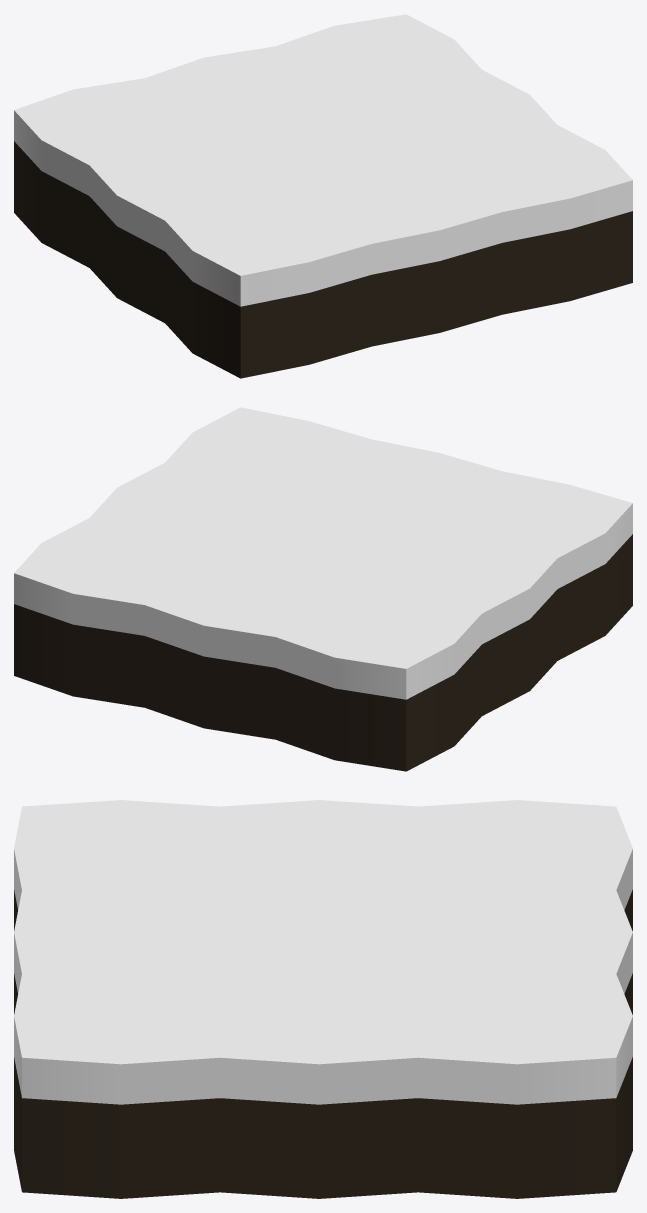
The model's file is jaggeredTile-14b_col.fbx.
3 views of the same model, one above another, from view 1: azimuth 30°, elevation 25°; view 2: azimuth 150°, elevation 25°; view 3: azimuth 270°, elevation 25° (orthographic). The views are drawn at different scales.
Visible parts, largest first — view 1: jaggeredTile-14b.col; view 2: jaggeredTile-14b.col; view 3: jaggeredTile-14b.col.
Part boxes in pixels (bbox=[...]): jaggeredTile-14b.col: bbox=[14, 14, 632, 378]; jaggeredTile-14b.col: bbox=[14, 407, 632, 771]; jaggeredTile-14b.col: bbox=[14, 800, 632, 1198].
Bounding box in the file's own units: 2.1 × 0.5 × 2.08.
1 material, 1 textured.
